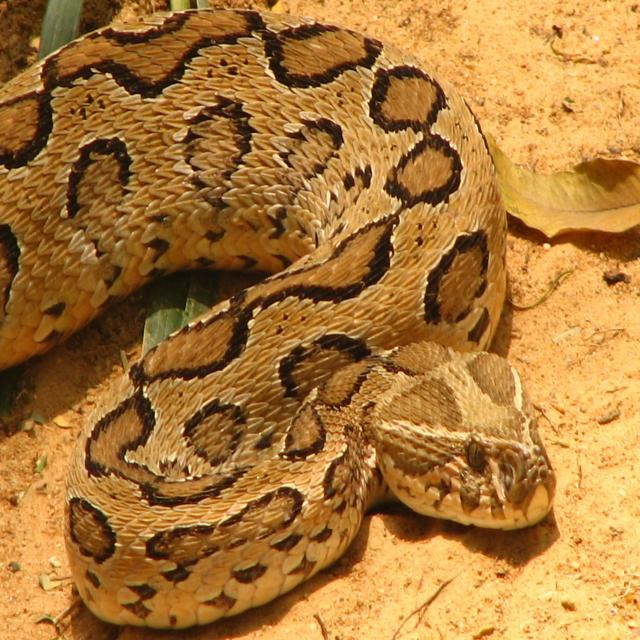Snake: (0, 6, 558, 632)
